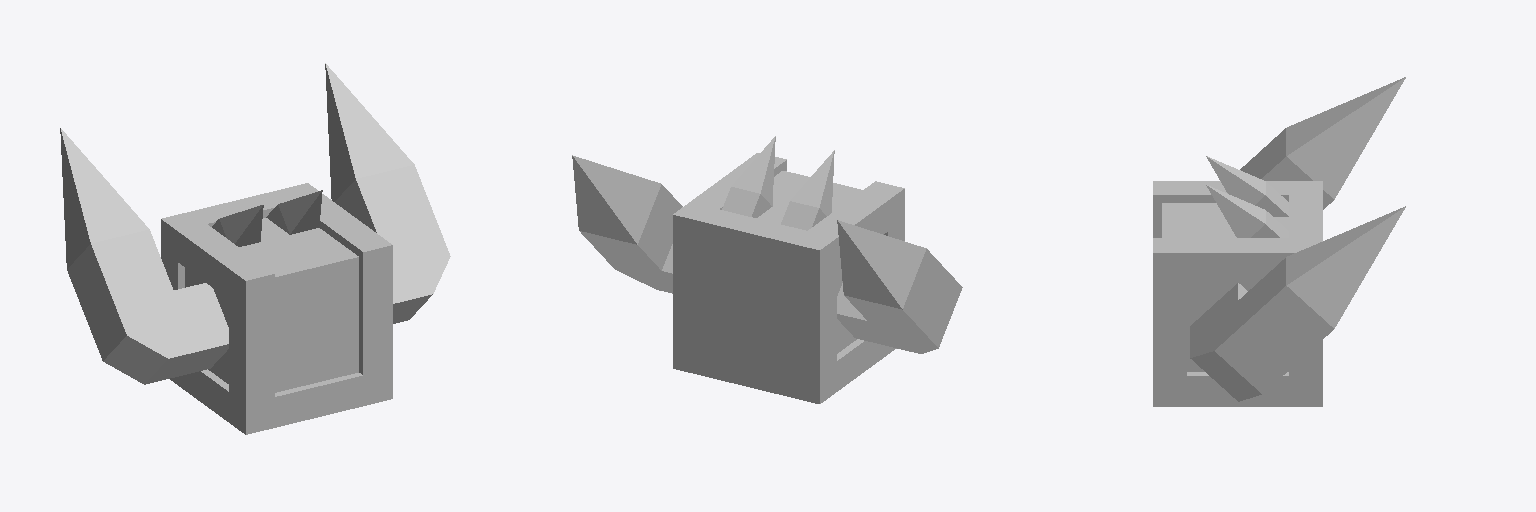
Rendered from head_smart.obj.
3 views of the same model, side by side, from view 1: azimuth 30°, elevation 25°; view 2: azimuth 150°, elevation 25°; view 3: azimuth 270°, elevation 25° (orthographic).
Parts seen in each view (by area): view 1: HEAD_SMART_OBSIDIAN_Cube.377; view 2: HEAD_SMART_OBSIDIAN_Cube.377; view 3: HEAD_SMART_OBSIDIAN_Cube.377.
Boxes of the visible parts, x1=… form: HEAD_SMART_OBSIDIAN_Cube.377: x1=60, y1=63, x2=450, y2=434; HEAD_SMART_OBSIDIAN_Cube.377: x1=572, y1=136, x2=962, y2=403; HEAD_SMART_OBSIDIAN_Cube.377: x1=1153, y1=77, x2=1405, y2=406.
Size of the model in its own units: 0.6875 by 0.4656 by 0.4656.